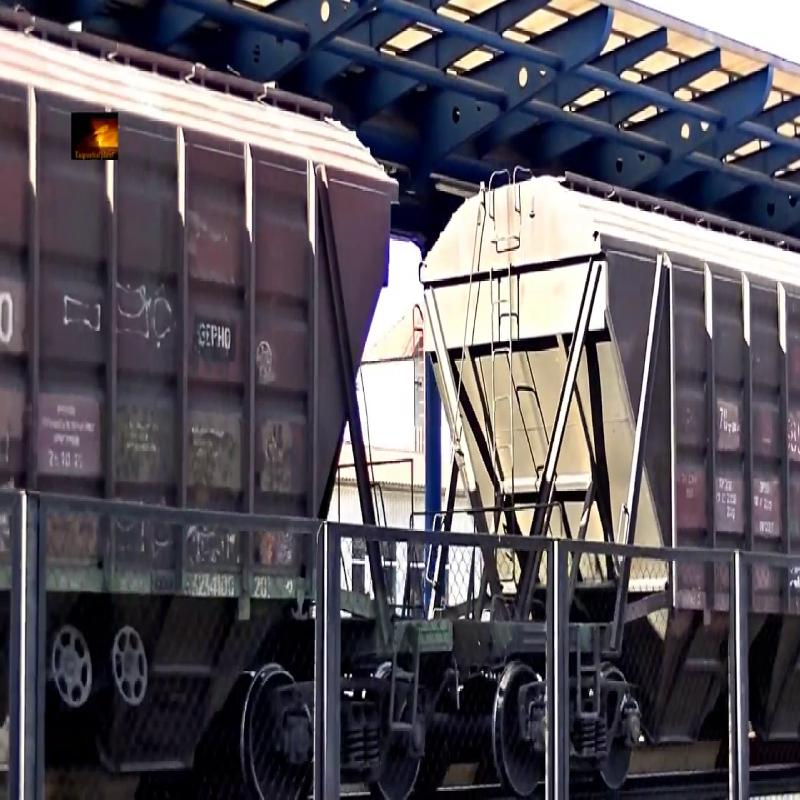train: (1, 22, 417, 770), (441, 22, 797, 769)
